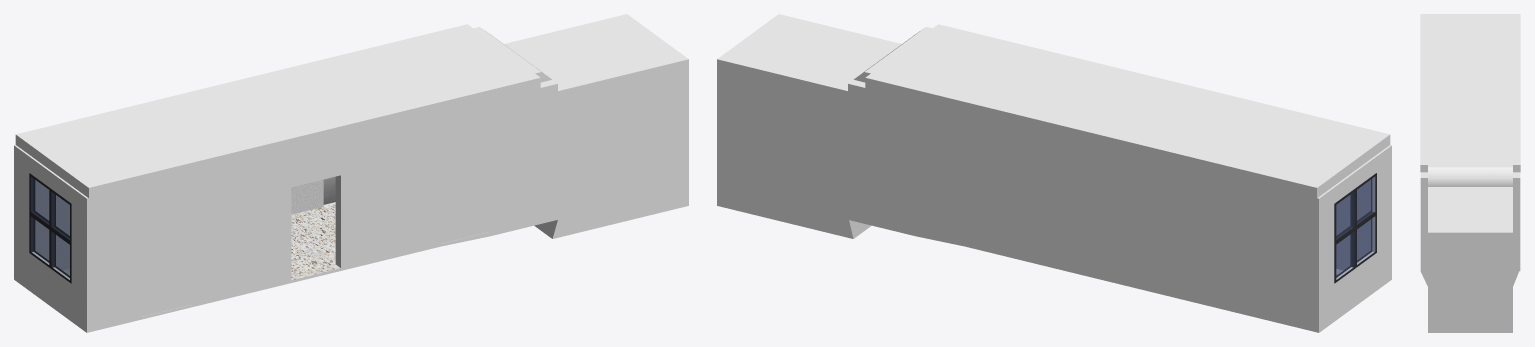
The model's file is Hall_Fix.fbx.
3 renders of one model, left to right at view 1: azimuth 30°, elevation 25°; view 2: azimuth 150°, elevation 25°; view 3: azimuth 270°, elevation 25°, orthographic. The views are drawn at different scales.
Parts seen in each view (by area): view 1: Room:pCube3; view 2: Room:pCube3; view 3: Room:pCube3.
Boxes of the visible parts, box(x1,y1,x2,y2) form: Room:pCube3: box(14, 14, 688, 332); Room:pCube3: box(717, 14, 1391, 332); Room:pCube3: box(1420, 14, 1520, 332).
Size of the model in its own units: 229 by 61.09 by 47.68.
Materials: 4 (2 with a texture image).
